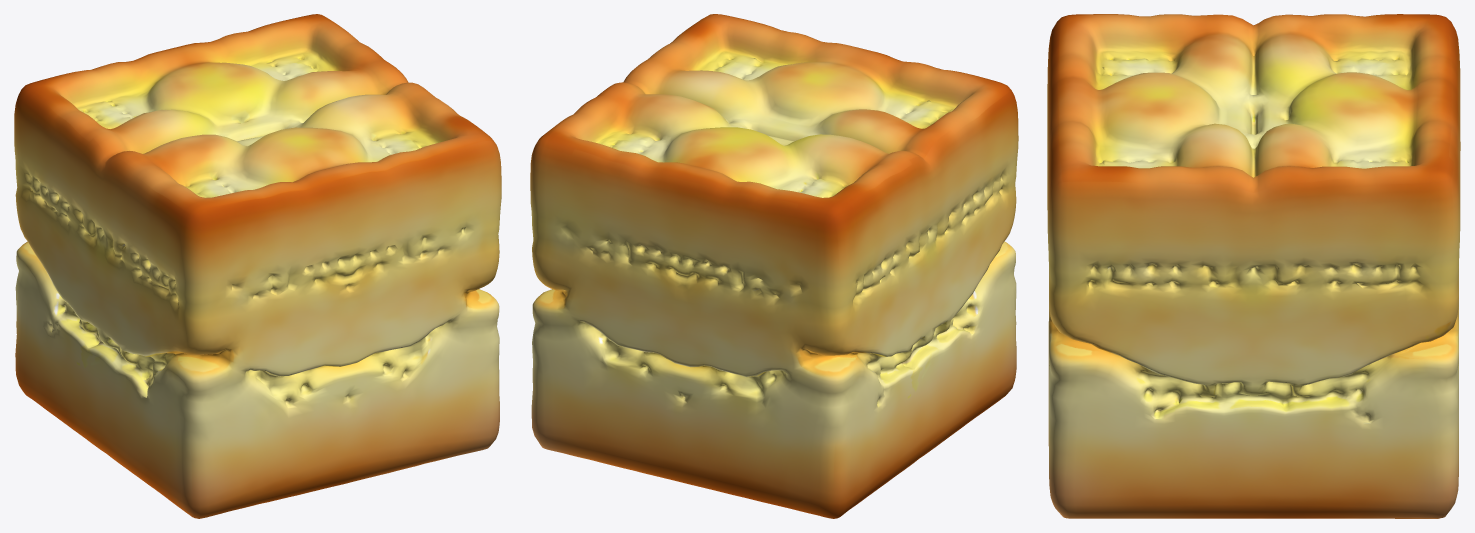
3 views of the same model, side by side, from view 1: azimuth 30°, elevation 25°; view 2: azimuth 150°, elevation 25°; view 3: azimuth 270°, elevation 25° (orthographic). The views are drawn at different scales.
Parts seen in each view (by area): view 1: model; view 2: model; view 3: model.
Boxes of the visible parts, x1,y1,x2,y2 form: model: (14, 14, 501, 518); model: (530, 14, 1018, 518); model: (1047, 14, 1460, 518).
Size of the model in its own units: 1.86 by 1.76 by 1.88.
1 material, 1 textured.
